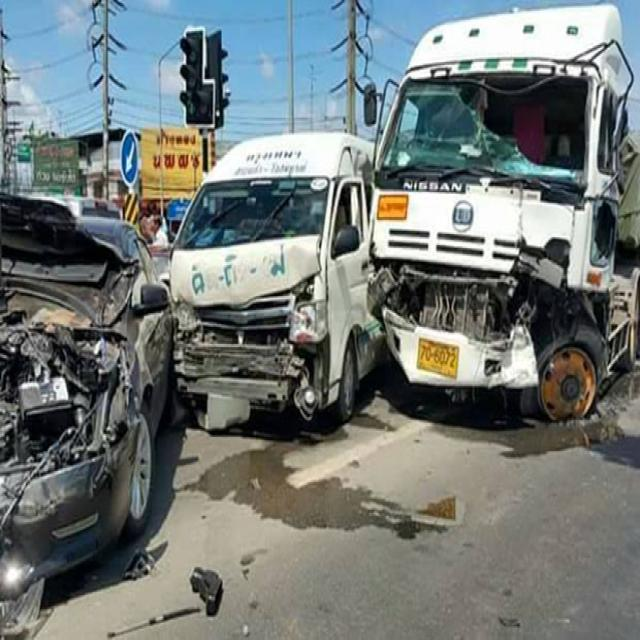Accident: (369, 2, 640, 432), (0, 182, 174, 628), (173, 132, 384, 438)
